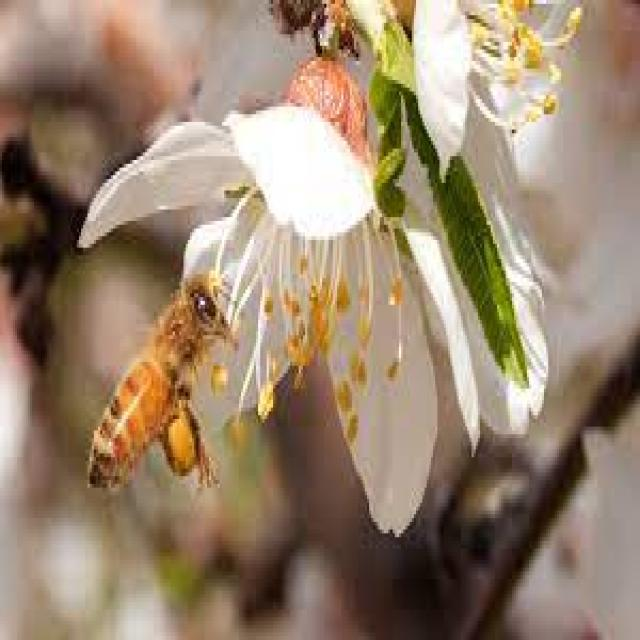Bees: (87, 267, 232, 489)
